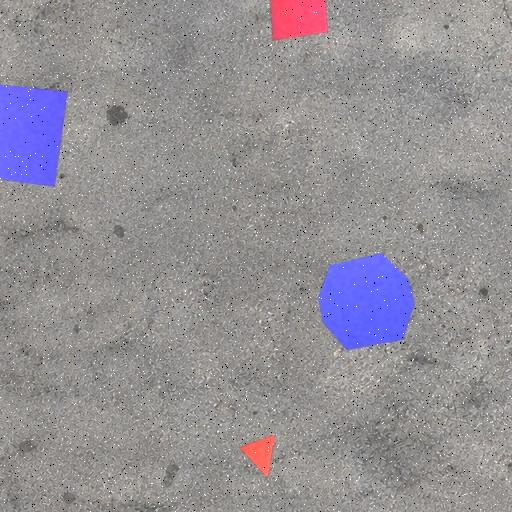BLUE_SQUARE: (0, 82, 69, 187)
RED_SQUARE: (269, 0, 329, 42)
